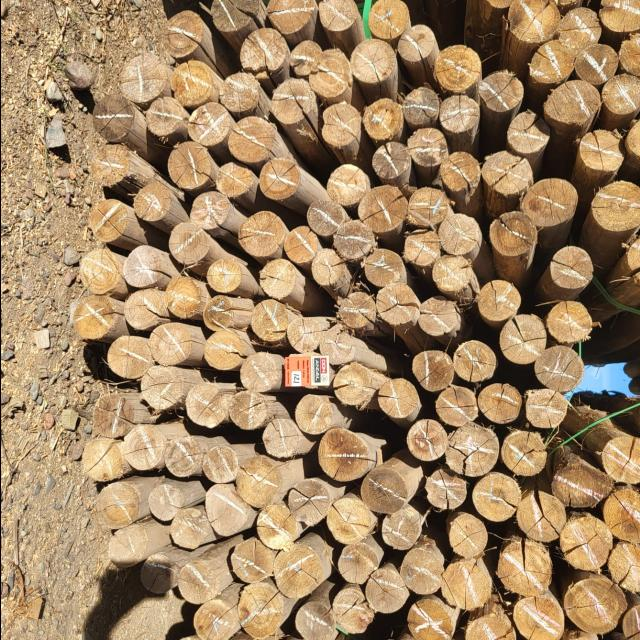package: (74, 0, 591, 640), (388, 403, 640, 640), (464, 0, 640, 306)
